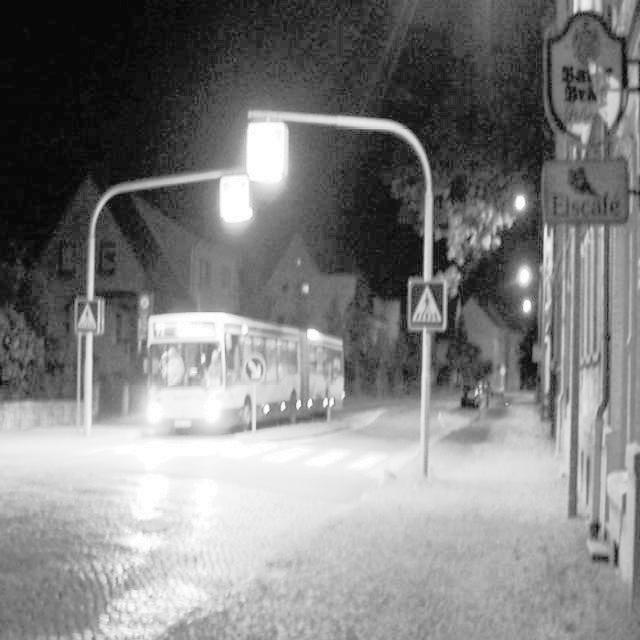Bus: (128, 306, 359, 441)
